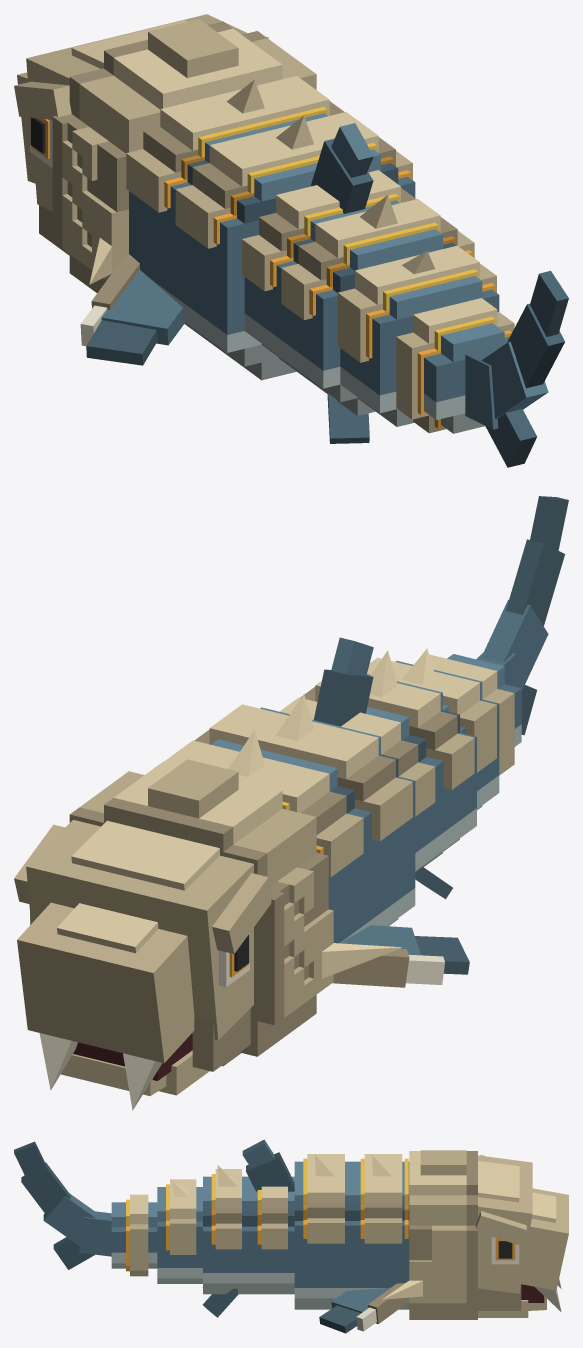
File: Dunkleosteus.obj
The picture shows the model from 3 angles, top to bottom: view 1: azimuth 30°, elevation 25°; view 2: azimuth 150°, elevation 25°; view 3: azimuth 270°, elevation 25°; orthographic projection. The views are drawn at different scales.
Parts seen in each view (by area): view 1: Head, S1, S2, S4, S5, S3, Tail, S6; view 2: Head, S1, S2, S4, S3, Tail, S5, S6, Jaw; view 3: Head, S1, S2, S3, S4, Tail, S5, S6, Jaw.
Part boxes in pixels (x1=…): Head: x1=14, y1=14, x2=316, y2=292; S1: x1=80, y1=76, x2=344, y2=365; S2: x1=175, y1=112, x2=415, y2=380; S4: x1=281, y1=195, x2=474, y2=443; S5: x1=337, y1=245, x2=499, y2=426; S3: x1=242, y1=123, x2=416, y2=386; Tail: x1=465, y1=270, x2=568, y2=467; S6: x1=396, y1=298, x2=514, y2=433; Head: x1=14, y1=759, x2=402, y2=1110; S1: x1=164, y1=730, x2=469, y2=987; S2: x1=194, y1=694, x2=415, y2=927; S4: x1=300, y1=650, x2=476, y2=899; S3: x1=279, y1=637, x2=437, y2=871; Tail: x1=476, y1=496, x2=568, y2=735; S5: x1=367, y1=648, x2=499, y2=809; S6: x1=429, y1=654, x2=521, y2=775; Jaw: x1=61, y1=1050, x2=209, y2=1095; Head: x1=382, y1=1150, x2=568, y2=1319; S1: x1=319, y1=1154, x2=409, y2=1333; S2: x1=294, y1=1154, x2=351, y2=1309; S3: x1=242, y1=1139, x2=294, y2=1294; S4: x1=202, y1=1165, x2=248, y2=1317; Tail: x1=14, y1=1141, x2=111, y2=1269; S5: x1=157, y1=1179, x2=202, y2=1283; S6: x1=111, y1=1194, x2=157, y2=1276; Jaw: x1=478, y1=1296, x2=546, y2=1317.
Bounding box in the file's own units: 12.13 × 8.53 × 26.17.
Materials: 1 (1 with a texture image).
